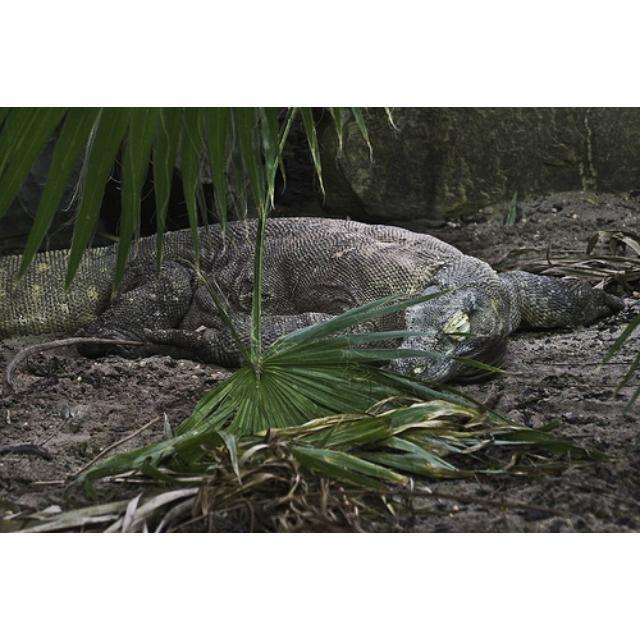KomodoDragon: (1, 210, 626, 391)
